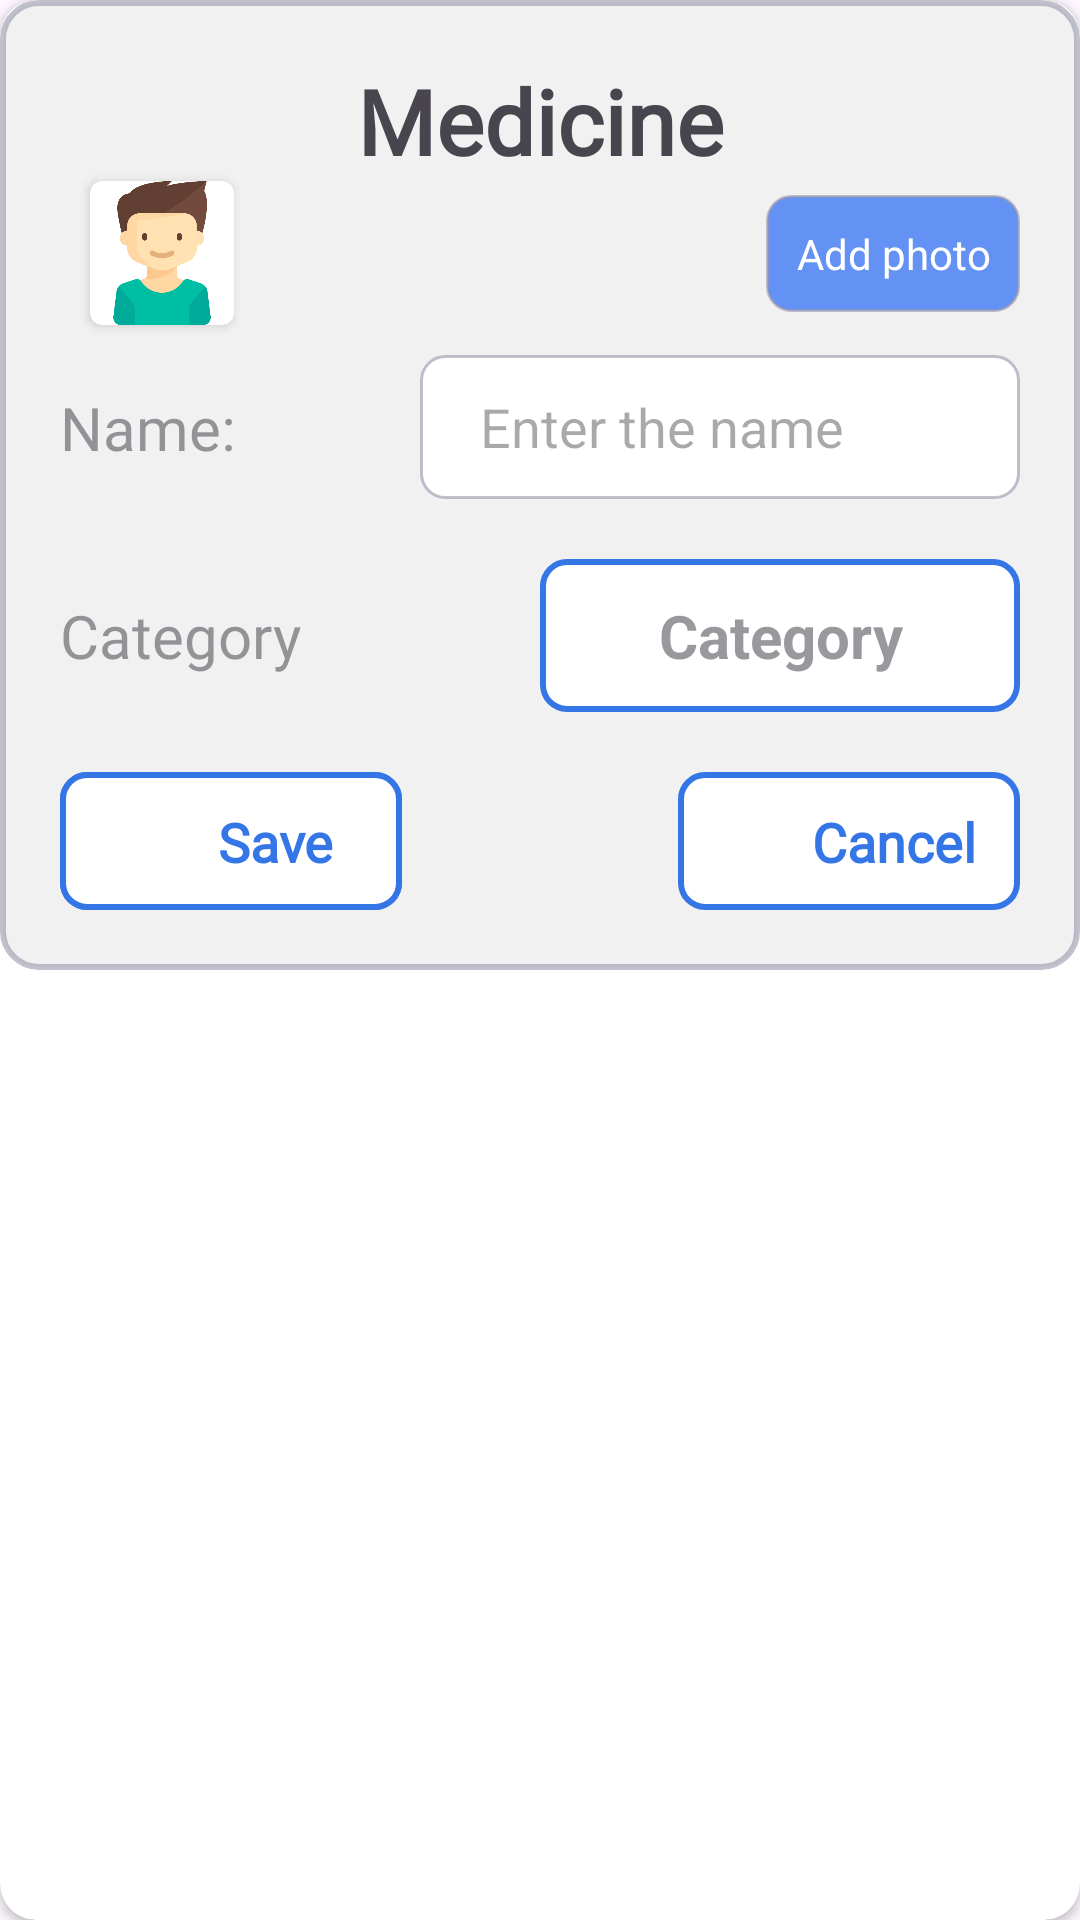

Icon click points for this 1080×1920 phone screenshot, format (x,y):
Photo of Child: (162,253)
